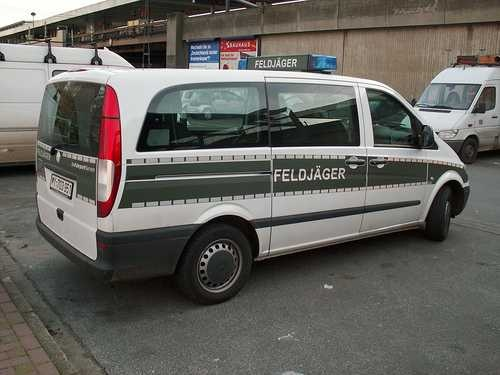Police Car: (37, 54, 474, 275)
